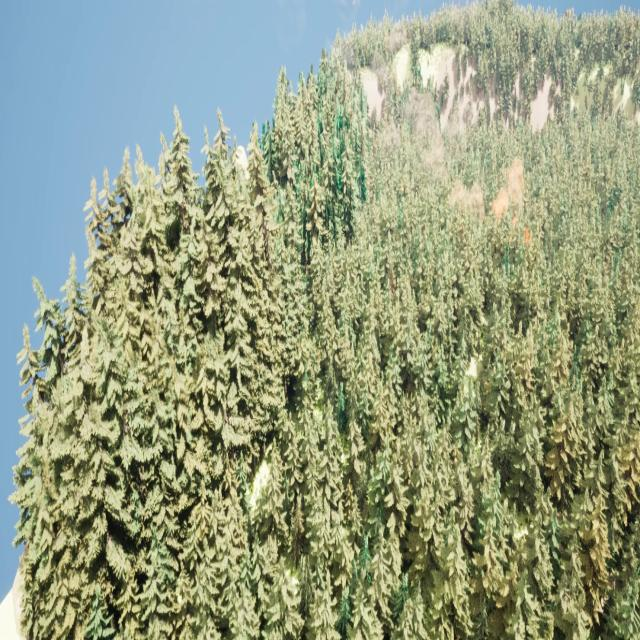smoke: (452, 152, 536, 242)
